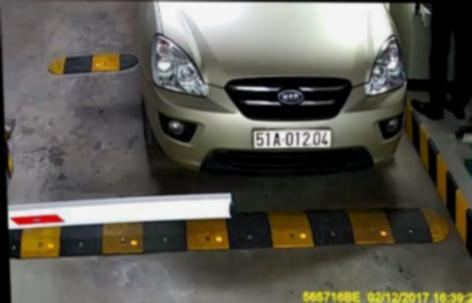License_Plate: (247, 125, 336, 152)
